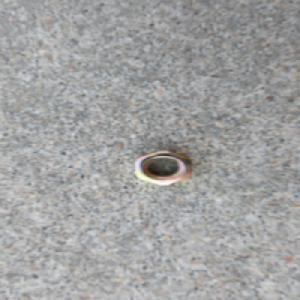Nut: (132, 149, 194, 187)
